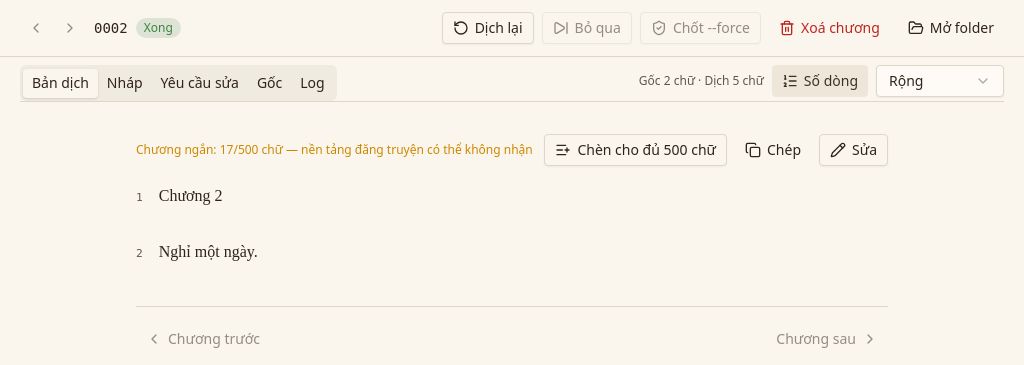
Scenario: ChapterReader › chương ngắn: báo số chữ và nút chèn cho đủ; chèn xong đọc lại chương
Check: the text "Chương ngắn: 17/500 chữ" is shown, box [136,142,533,158]
Click the button "Chèn cho đủ 500 chữ". click: (636, 150)
box: [544,134,727,166]
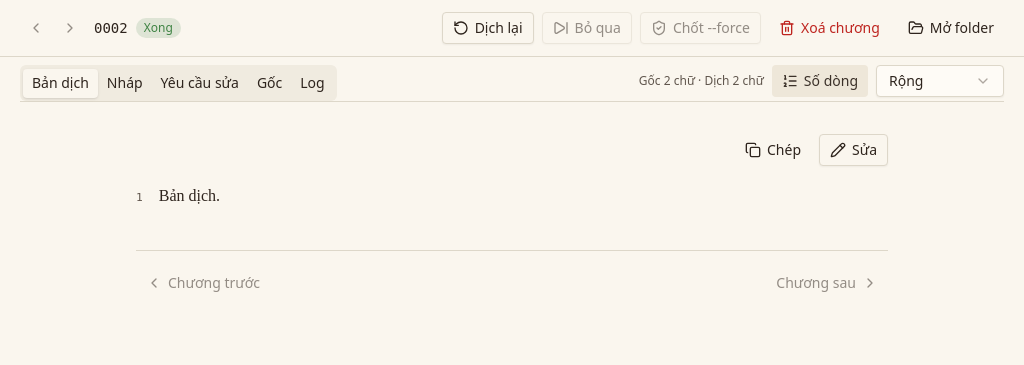
Check: the text "Chương ngắn:" is gone
